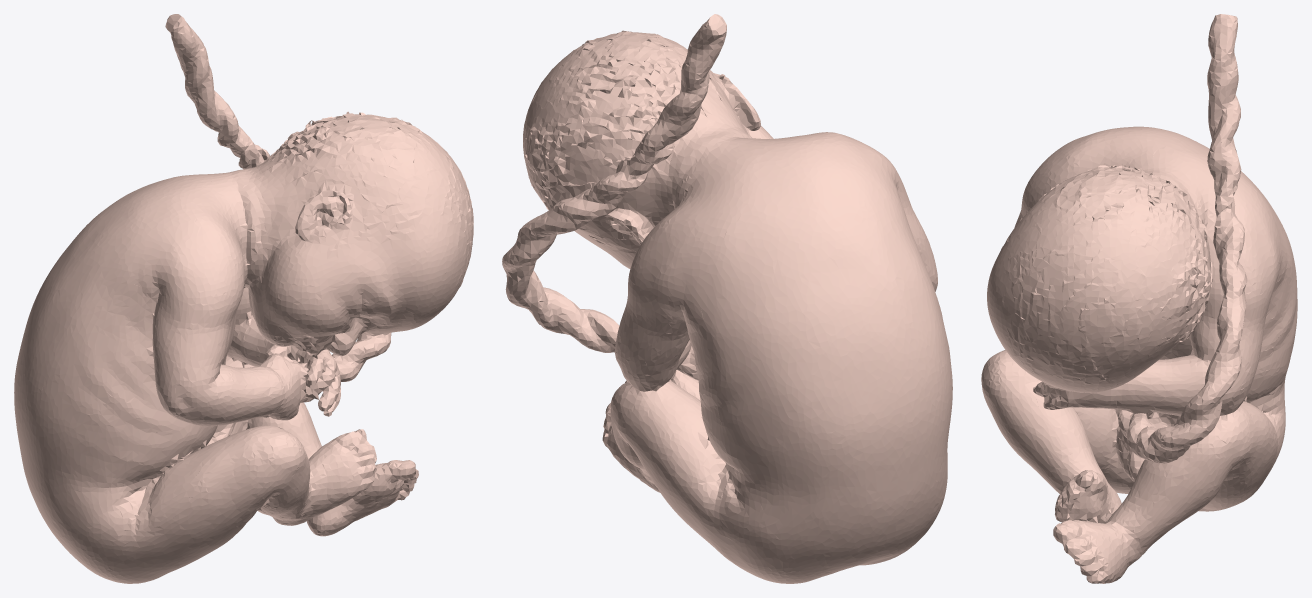
Rendered from semaine-42.glb.
The picture shows the model from 3 angles, left to right: view 1: azimuth 30°, elevation 25°; view 2: azimuth 150°, elevation 25°; view 3: azimuth 270°, elevation 25°; orthographic projection. The views are drawn at different scales.
Bounding box in the file's own units: 1.65 × 2 × 1.1.
